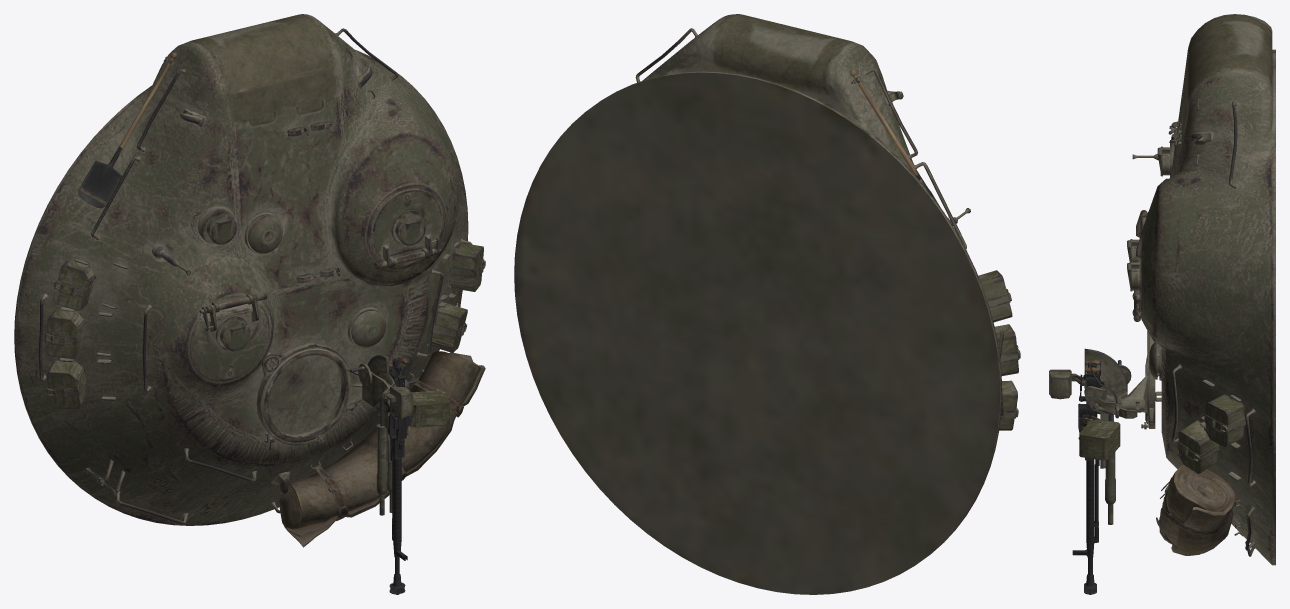
The model's file is Turret_01.glb.
The picture shows the model from 3 angles, left to right: view 1: azimuth 30°, elevation 25°; view 2: azimuth 150°, elevation 25°; view 3: azimuth 270°, elevation 25°; orthographic projection. The views are drawn at different scales.
Parts seen in each view (by area): view 1: set_0_group_0, set_0_group_1; view 2: set_0_group_0, set_0_group_1; view 3: set_0_group_0, set_0_group_1.
Boxes of the visible parts, box(x1,y1,x2,y2) form: set_0_group_0: box(14, 14, 472, 525); set_0_group_1: box(44, 52, 485, 594); set_0_group_0: box(514, 14, 1003, 594); set_0_group_1: box(850, 69, 1020, 430); set_0_group_0: box(1121, 14, 1275, 565); set_0_group_1: box(1049, 348, 1245, 594).
Size of the model in its own units: 3.33 by 3.71 by 1.46.
2 materials, 2 textured.
